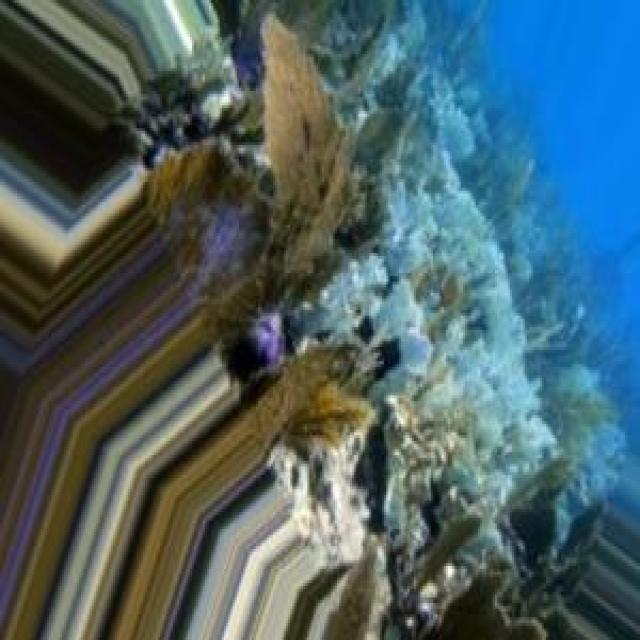Bleached: (383, 132, 554, 544)
